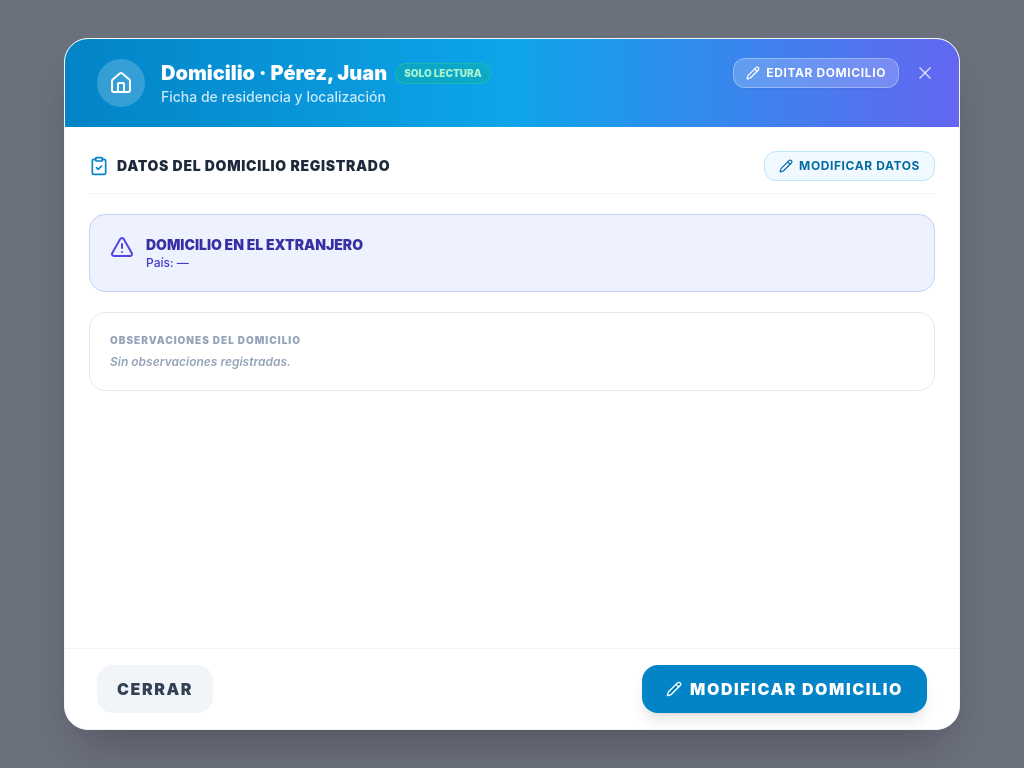
Test case: PersonaDomicilioModal · modo lectura / edición › con domicilio en el extranjero muestra el aviso y no ofrece cascada
The width and height of the screenshot is (1024, 768).
expect the text "Domicilio en el extranjero" is shown: met, box [146,235,363,255]
Click the button "Modificar Domicilio". click: (784, 689)
box: [642,665,927,713]
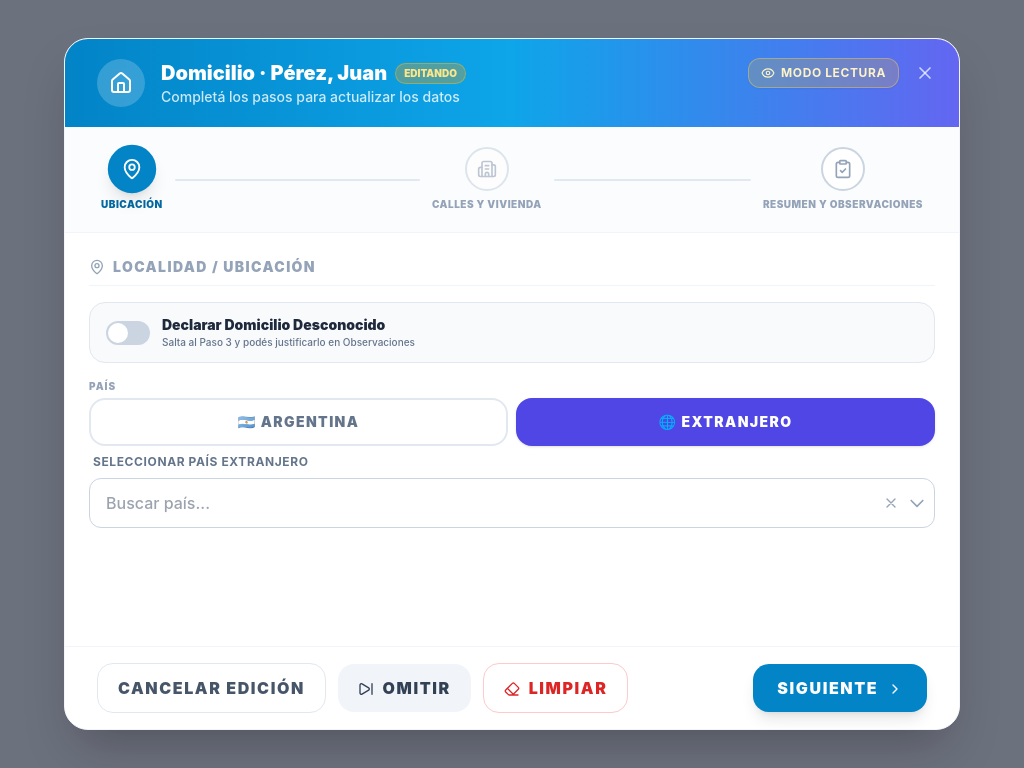
expect the button with aria-label "Ir al paso 1: Ubicación" is shown: met, box [97,143,167,216]
